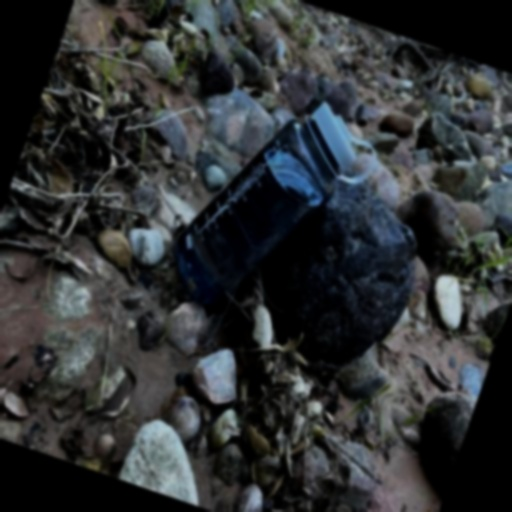bottle: (160, 70, 390, 340)
